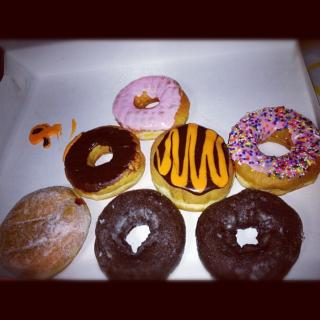Doughnut: (63, 73, 320, 279), (224, 105, 320, 196)
